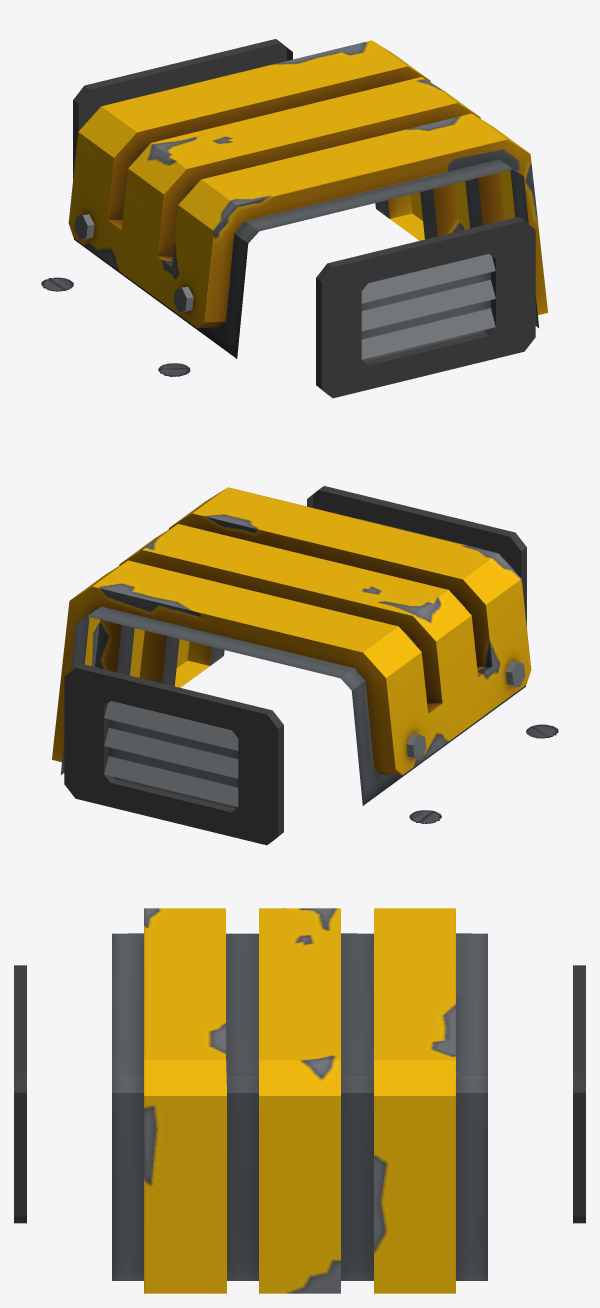
The model's file is env_ruin_container_03_lod0.fbx.
3 renders of one model, top to bottom at view 1: azimuth 30°, elevation 25°; view 2: azimuth 150°, elevation 25°; view 3: azimuth 270°, elevation 25°, orthographic. The views are drawn at different scales.
Parts seen in each view (by area): view 1: env_ruin_container_03_lod0; view 2: env_ruin_container_03_lod0; view 3: env_ruin_container_03_lod0.
Part boxes in pixels (x1,y1,x2,y2): env_ruin_container_03_lod0: [41, 39, 547, 398]; env_ruin_container_03_lod0: [52, 486, 558, 845]; env_ruin_container_03_lod0: [14, 908, 585, 1293].
Size of the model in its own units: 33.55 by 14.88 by 36.55.
